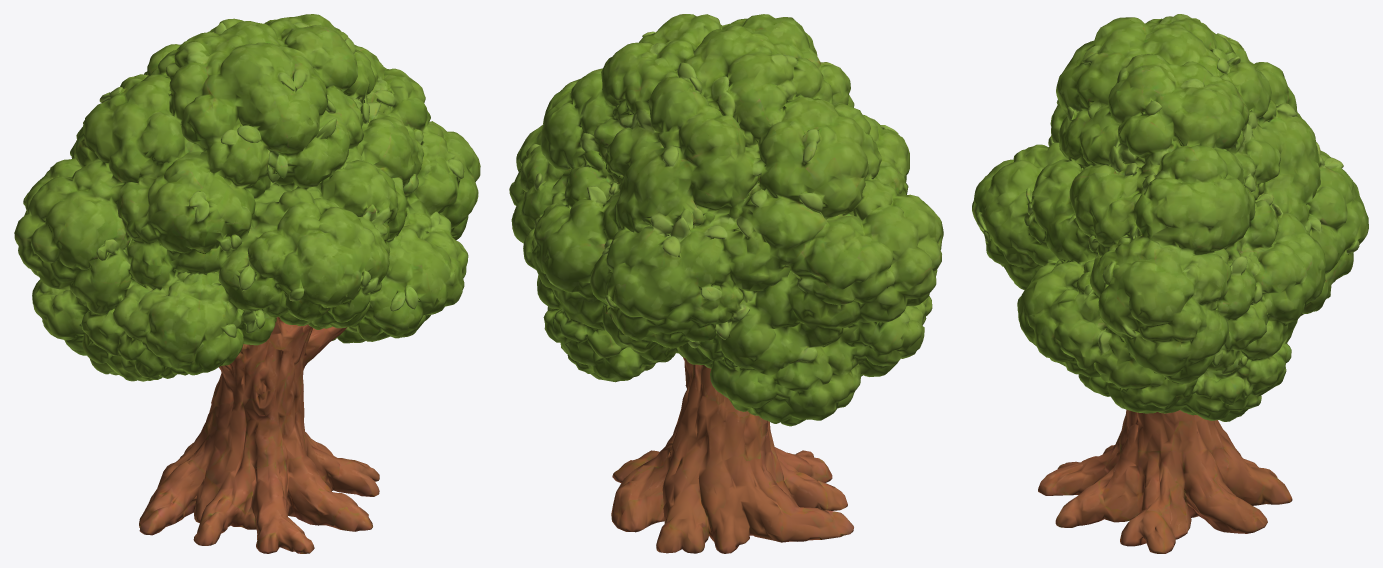
Rendered from tree-large.glb.
3 views of the same model, side by side, from view 1: azimuth 30°, elevation 25°; view 2: azimuth 150°, elevation 25°; view 3: azimuth 270°, elevation 25° (orthographic). The views are drawn at different scales.
Size of the model in its own units: 1.8 by 1.9 by 1.47.
Materials: 1 (1 with a texture image).
